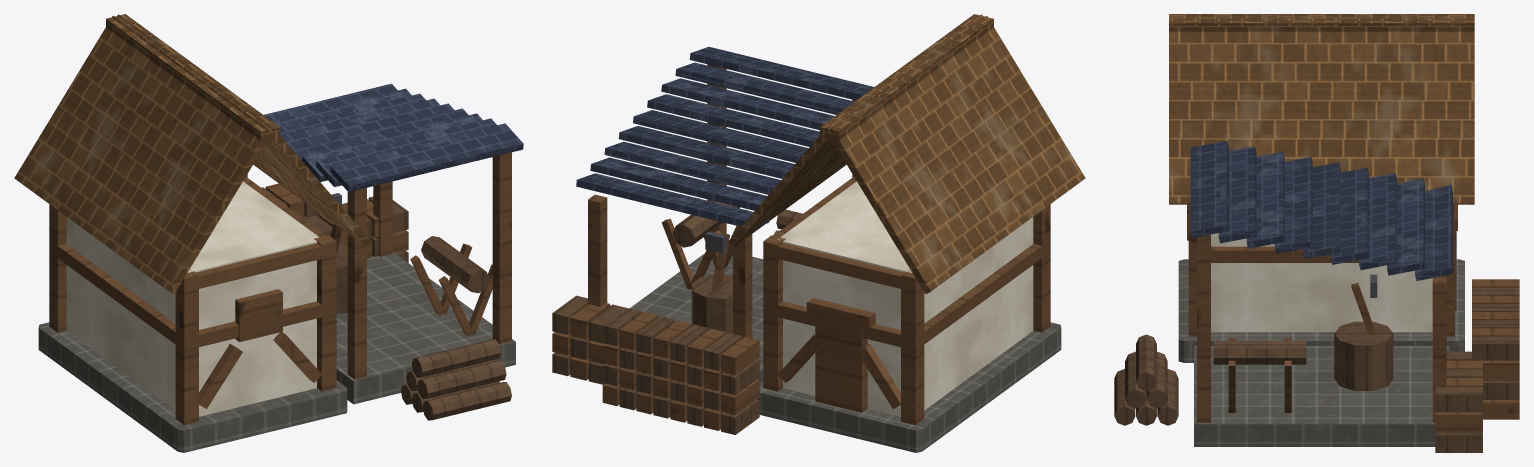
File: woodcutter.gltf
The picture shows the model from 3 angles, left to right: view 1: azimuth 30°, elevation 25°; view 2: azimuth 150°, elevation 25°; view 3: azimuth 270°, elevation 25°; orthographic projection.
Parts seen in each view (by area): view 1: Woodcutter; view 2: Woodcutter; view 3: Woodcutter.
Part boxes in pixels (left/top/right/bottom): Woodcutter: left=14, top=14, right=523, bottom=452; Woodcutter: left=552, top=14, right=1085, bottom=452; Woodcutter: left=1114, top=14, right=1519, bottom=452.
Size of the model in its own units: 3.05 by 2.4 by 2.89.
12 materials, 10 textured.
